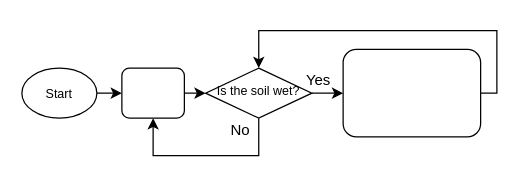
Some shapes in this 529 by 188 pixel diagram are drawn without their labels. Here are the shapes that lost their labels. From the top down, the box of each, then its label:
(121, 67, 184, 118): Wait 20 minutes
(342, 48, 481, 137): Activate relay module/ Pump water for 2 seconds
